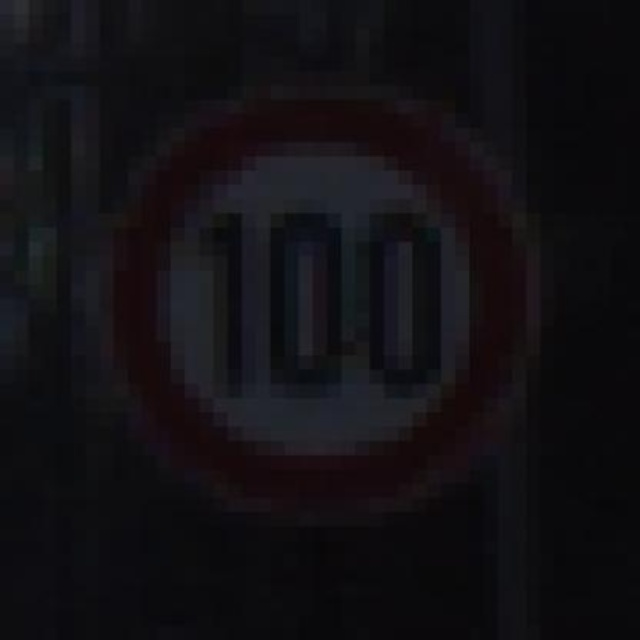Tốc độ tối đa cho phép 100km/h: (107, 92, 530, 516)
